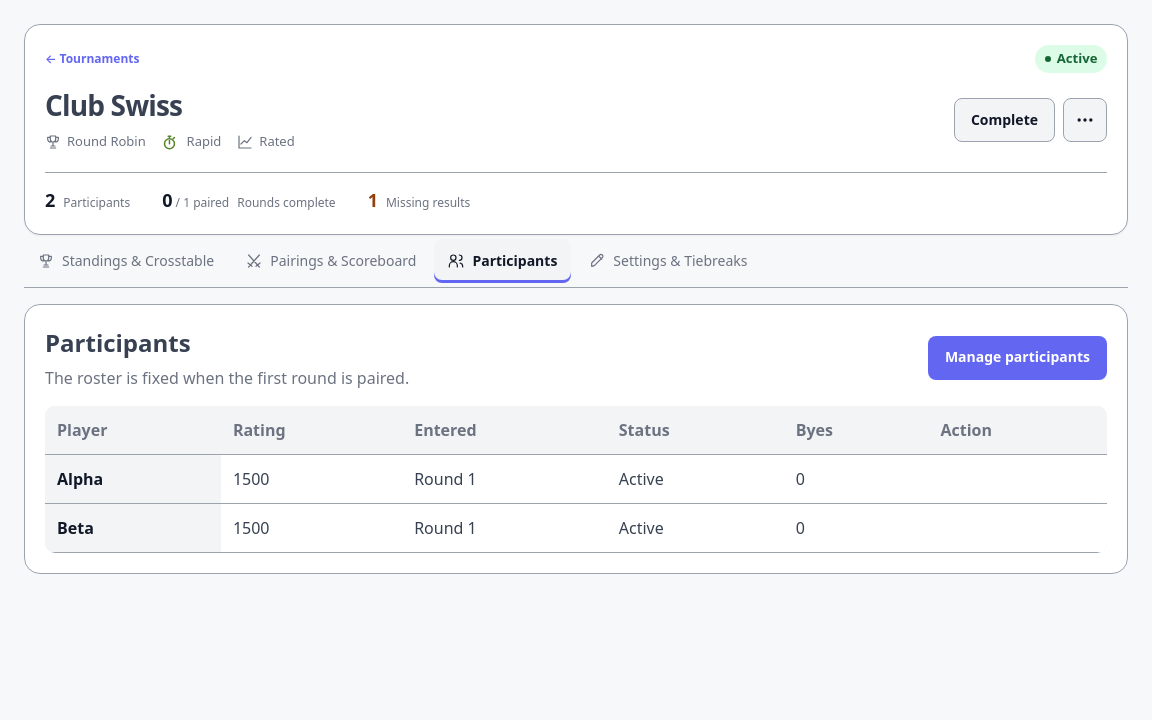
Test: TournamentPage duplicate result protection › explains the frozen Round Robin roster and hides add and withdrawal controls
Click the button "Manage participants" at (1017, 358), box top-left (928, 336), bottom-right (1107, 380)
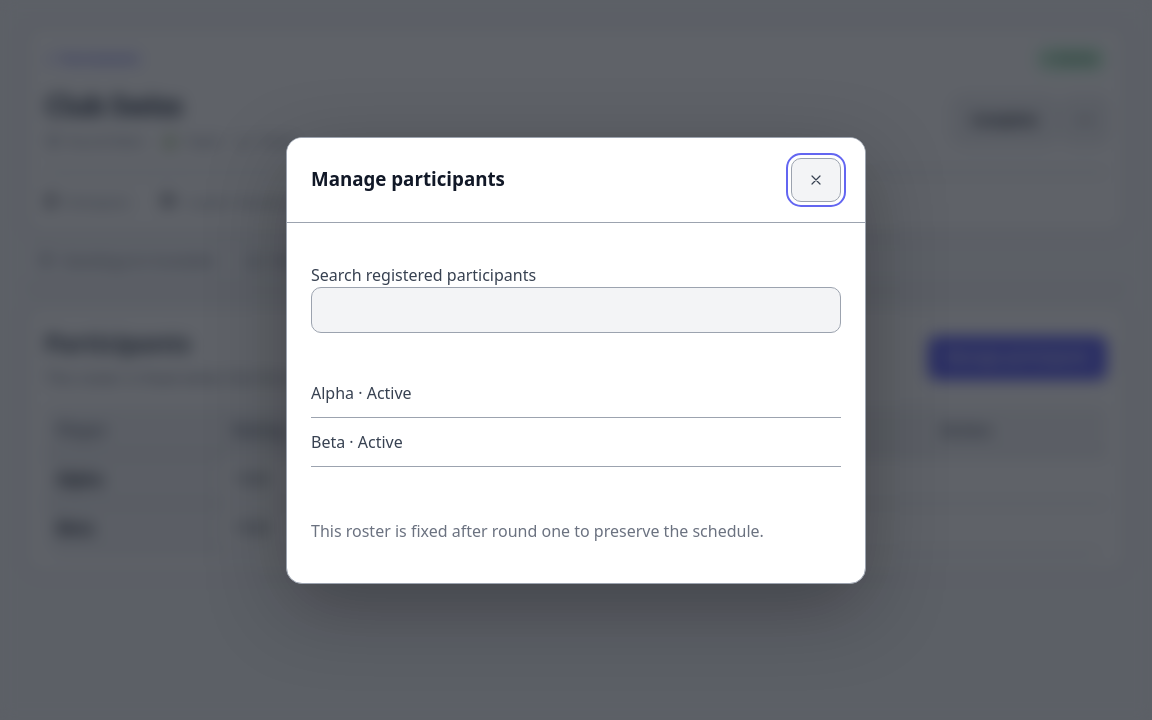
Check: the text "This roster is fixed" is shown, box top-left (311, 520), bottom-right (764, 542)
